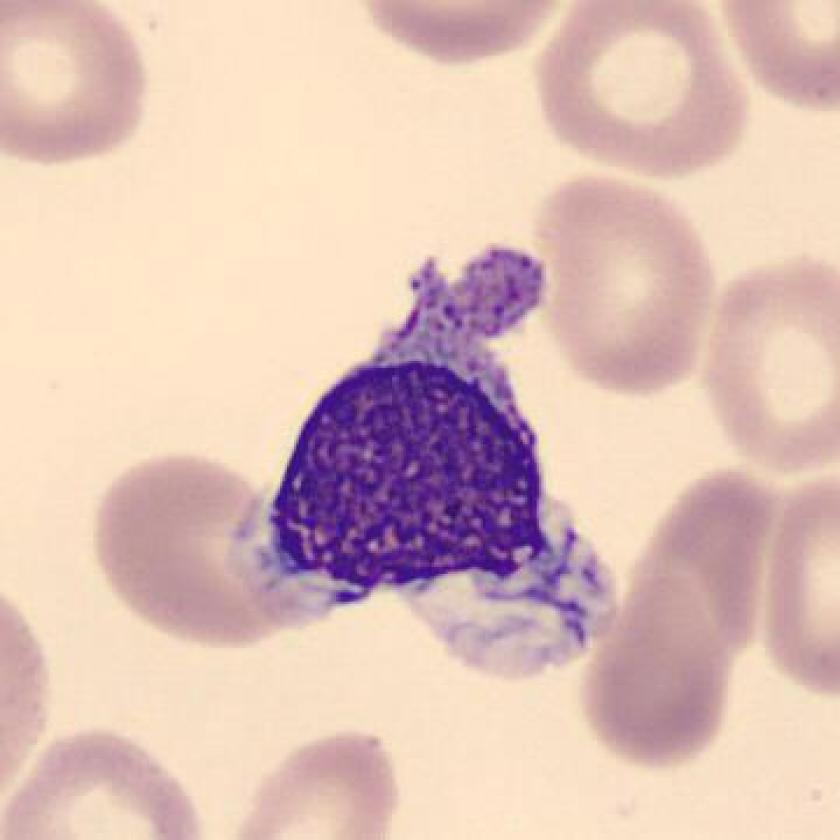monocyte: (209, 230, 631, 705)
